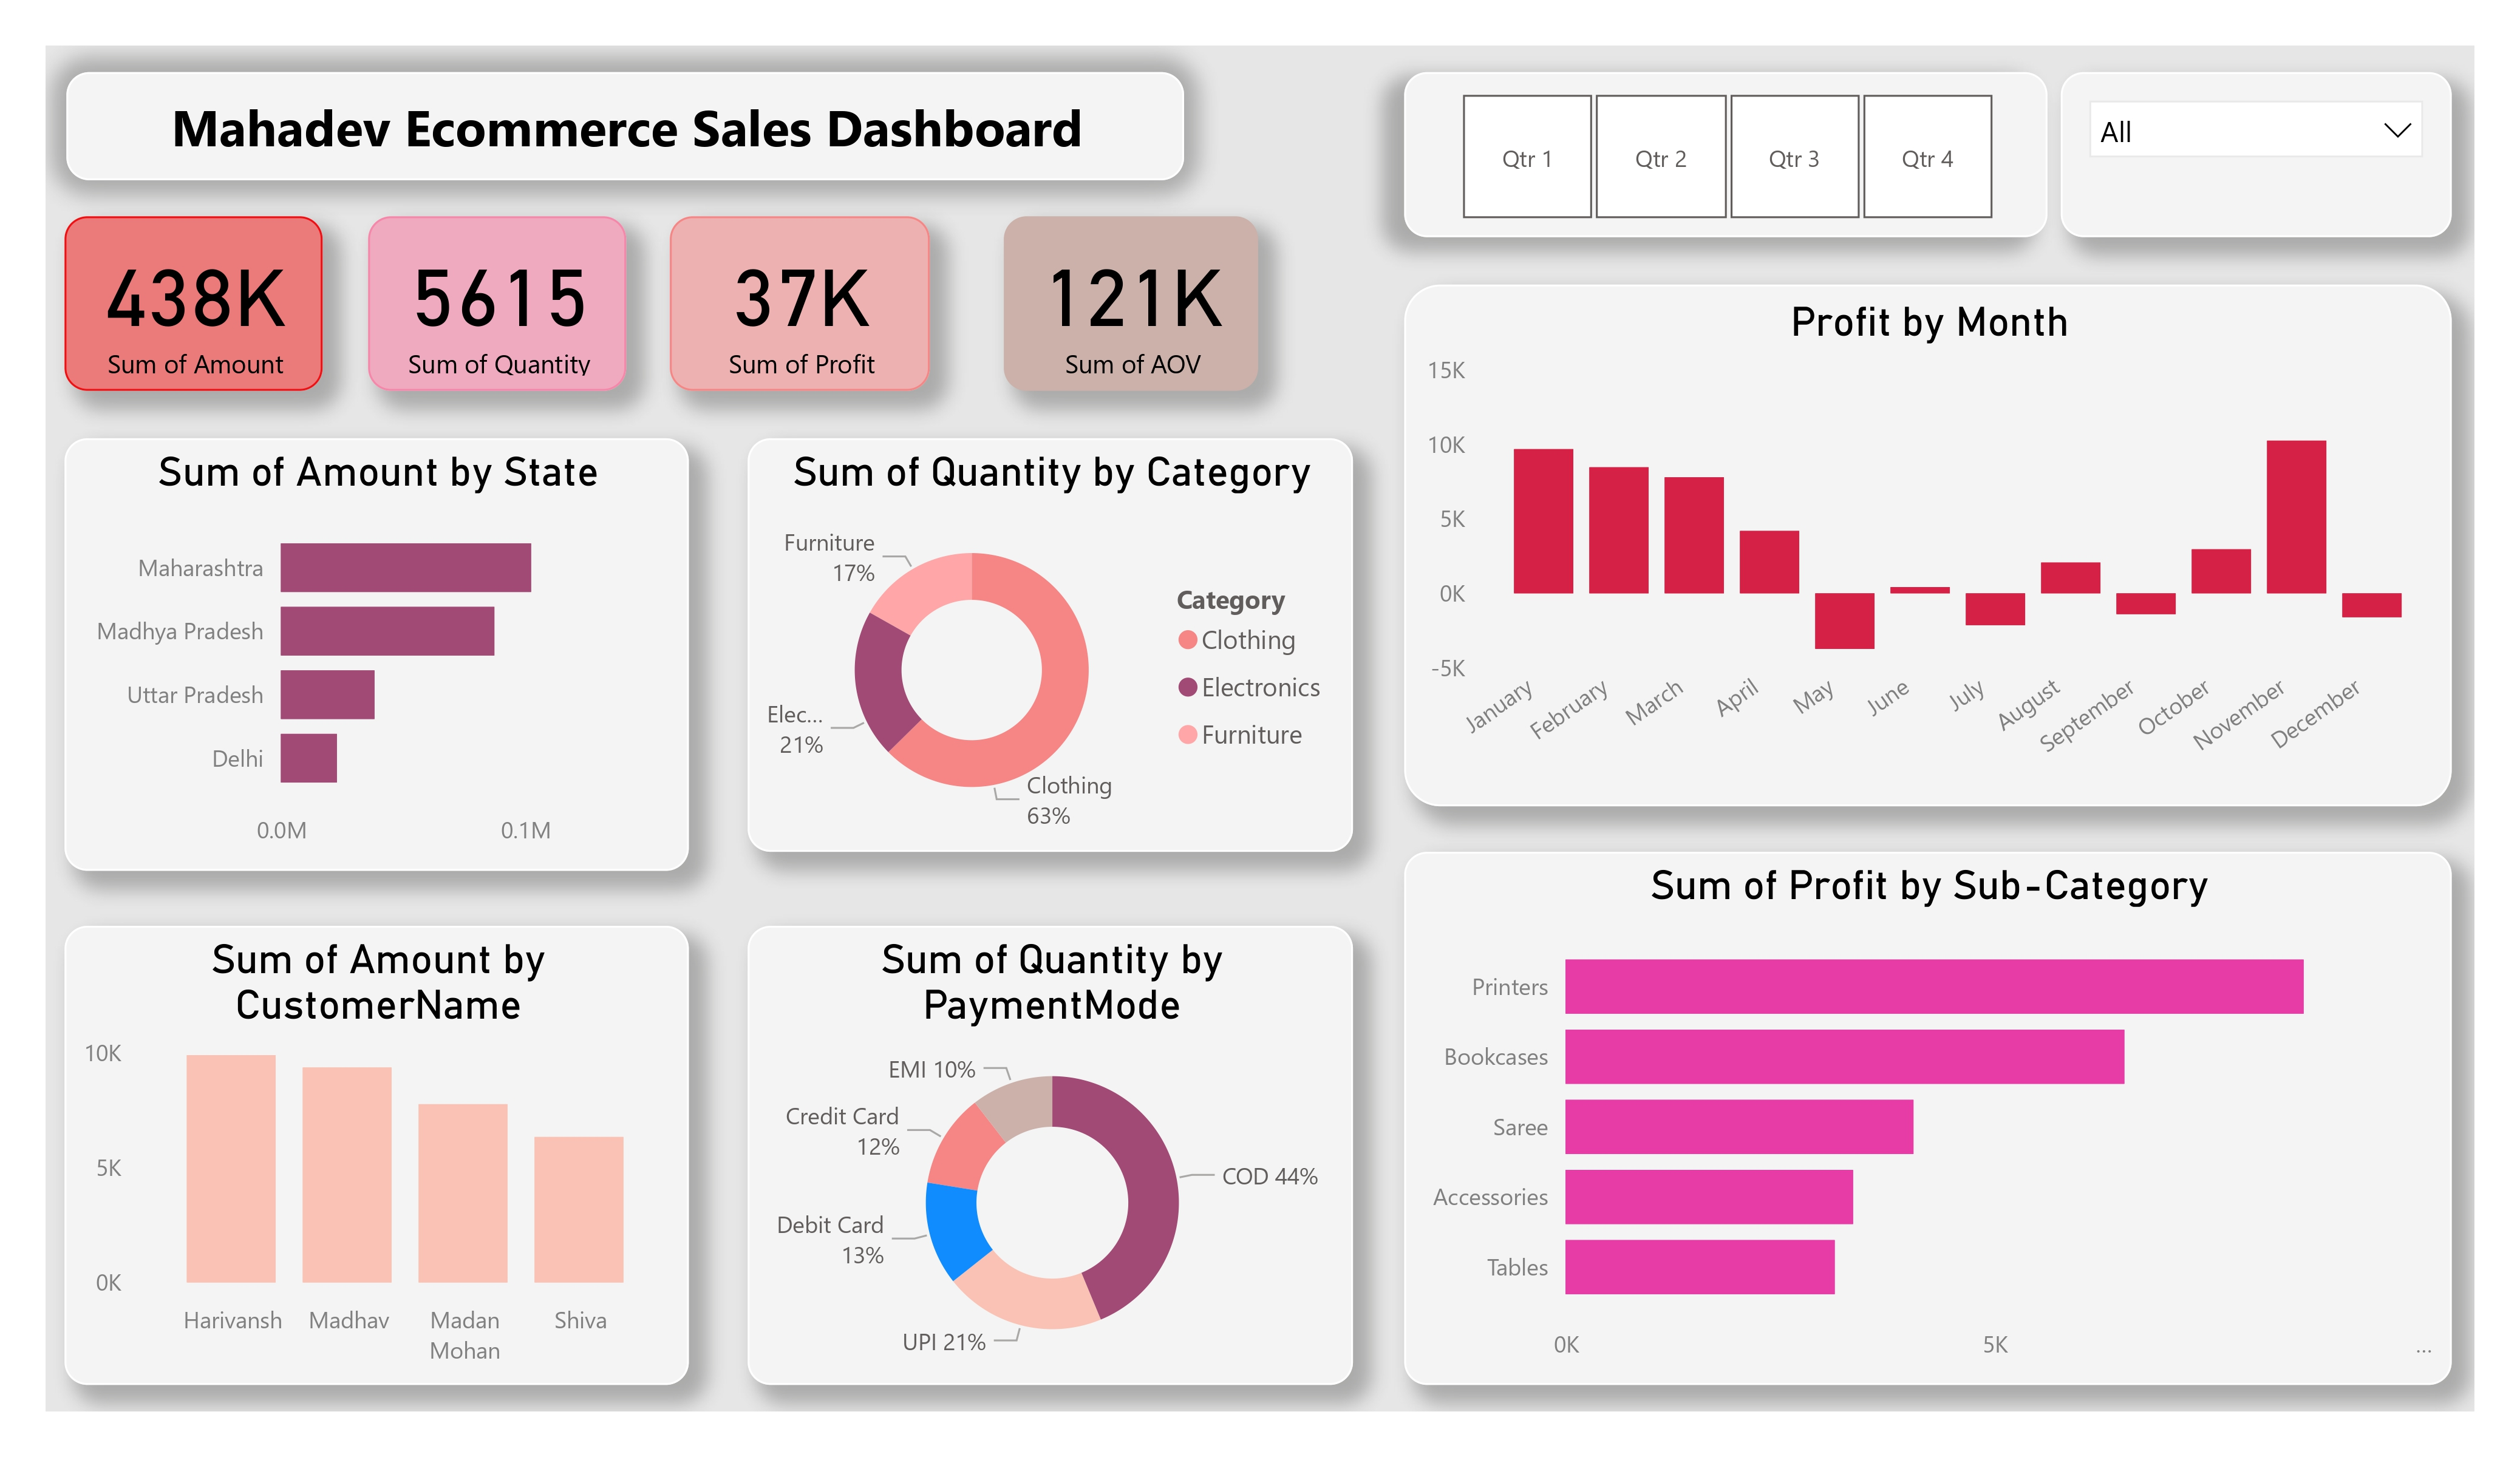

This screenshot's page, from the dashboard's own definition file:
{"tool":"powerbi","page":{"name":"Page 1","canvas":[1280,720],"ordinal":0},"visuals":[{"type":"textbox","box":[11.1,13.9,589.3,57],"z":0},{"type":"columnChart","title":" Profit by Month","fields":{"Y":["Details.Profit"],"Category":["Orders.Order Date.Variation.Date Hierarchy.Month"]},"box":[715.6,126,552.7,275.5],"z":1000},{"type":"barChart","fields":{"Category":["Details.Sub-Category"],"Y":["Details.Profit"]},"box":[715.8,425.3,551.8,280.8],"z":2000},{"type":"donutChart","fields":{"Category":["Details.Category"],"Y":["Details.Quantity"]},"box":[369.6,206.6,319.2,218.4],"z":3000},{"type":"donutChart","fields":{"Y":["Details.Quantity"],"Category":["Details.PaymentMode"]},"box":[369.6,463.6,319.2,241.9],"z":4000},{"type":"card","fields":{"Values":["Details.Amount"]},"box":[9.7,90.3,136.2,91.7],"z":5000},{"type":"card","fields":{"Values":["Details.Quantity"]},"box":[169.6,90.3,136.2,91.7],"z":6000},{"type":"card","fields":{"Values":["Details.Profit"]},"box":[329.4,90.3,136.2,91.7],"z":7000},{"type":"card","fields":{"Values":["Details.AOV"]},"box":[504.6,90.3,134.8,91.7],"z":8000},{"type":"barChart","fields":{"Category":["Orders.State"],"Y":["Details.Amount"]},"box":[10.1,206.6,329.2,228.5],"z":9000},{"type":"columnChart","fields":{"Category":["Orders.CustomerName"],"Y":["Details.Amount"]},"box":[10,464,329,242],"z":10000},{"type":"slicer","fields":{"Values":["Orders.Order Date.Variation.Date Hierarchy.Quarter"]},"box":[715.8,13.9,339.2,87.6],"z":11000},{"type":"slicer","fields":{"Values":["Orders.State"]},"box":[1061.9,13.9,205.7,87.6],"z":12000}]}

Visuals, with their boxes on the page's 1280x720 design canvas (x1, y1, x2, y2). These are canvas units, not pixel positions in the 2520x1457 screenshot, which may show the page scaled, cropped or inside an application window:
textbox: locate(11, 14, 600, 71)
" Profit by Month" columnChart: locate(716, 126, 1268, 402)
barChart - Details.Sub-Category x Details.Profit: locate(716, 425, 1268, 706)
donutChart - Details.Category x Details.Quantity: locate(370, 207, 689, 425)
donutChart - Details.Quantity x Details.PaymentMode: locate(370, 464, 689, 706)
card - Details.Amount: locate(10, 90, 146, 182)
card - Details.Quantity: locate(170, 90, 306, 182)
card - Details.Profit: locate(329, 90, 466, 182)
card - Details.AOV: locate(505, 90, 639, 182)
barChart - Orders.State x Details.Amount: locate(10, 207, 339, 435)
columnChart - Orders.CustomerName x Details.Amount: locate(10, 464, 339, 706)
slicer - Orders.Order Date.Variation.Date Hierarchy.Quarter: locate(716, 14, 1055, 102)
slicer - Orders.State: locate(1062, 14, 1268, 102)
